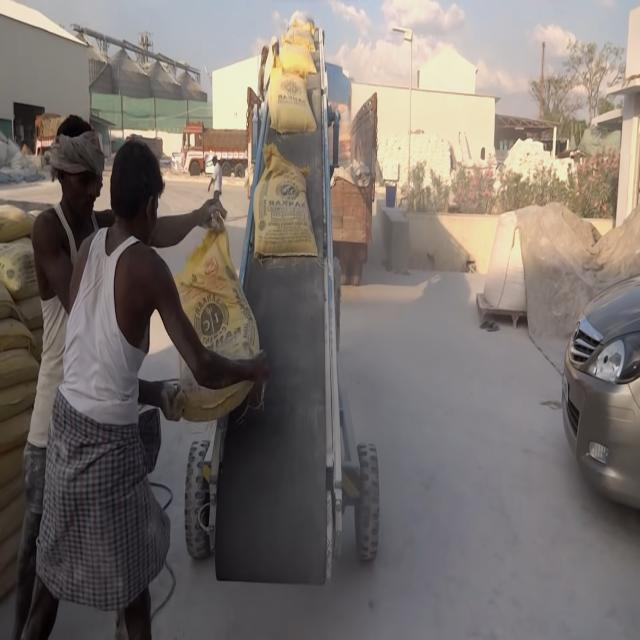gunny_bag: (174, 230, 259, 359), (253, 143, 318, 256), (179, 363, 252, 421), (267, 65, 316, 131), (0, 348, 38, 388), (279, 40, 317, 79), (282, 24, 315, 51)
